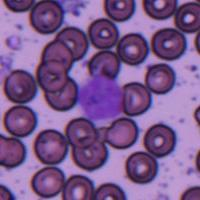L: (78, 75, 125, 122)
